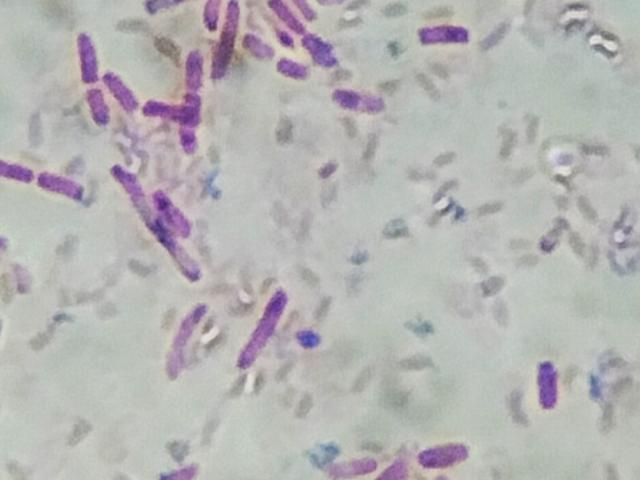E. coli: (233, 286, 293, 374), (162, 299, 210, 381), (148, 222, 198, 283), (157, 181, 199, 237), (36, 170, 92, 210), (329, 85, 391, 118), (418, 436, 470, 475), (217, 0, 241, 79), (112, 160, 148, 211), (418, 20, 471, 54), (72, 27, 104, 83), (533, 355, 560, 416), (150, 454, 209, 480), (105, 67, 138, 109), (179, 96, 200, 159), (145, 100, 193, 126), (83, 86, 111, 130), (185, 50, 206, 107), (241, 29, 275, 64), (0, 153, 31, 187), (335, 453, 374, 480), (308, 33, 335, 71), (269, 0, 303, 29), (278, 58, 311, 83), (195, 2, 219, 30), (290, 0, 319, 22), (343, 232, 347, 232)
